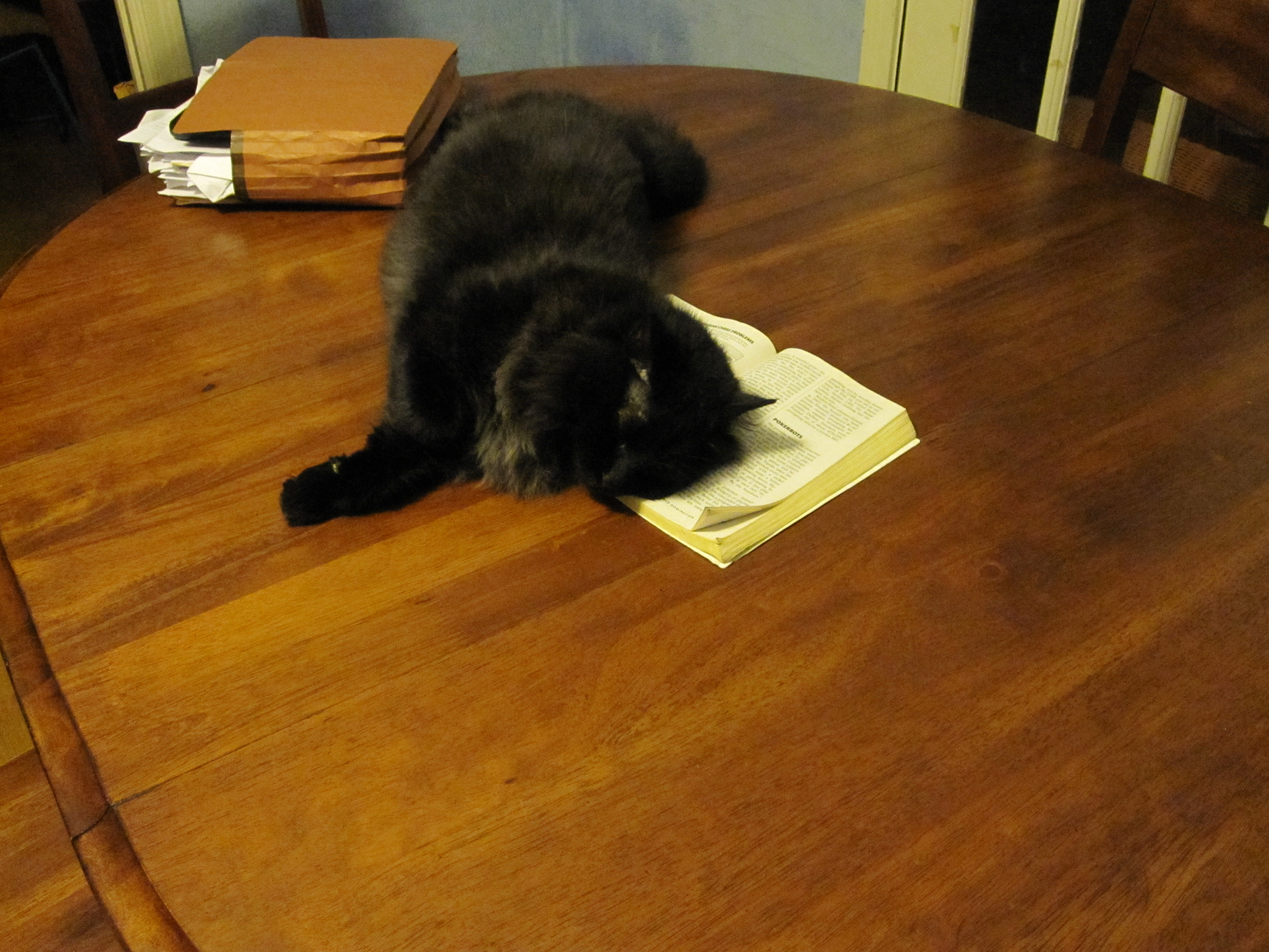cat: (277, 87, 780, 528)
